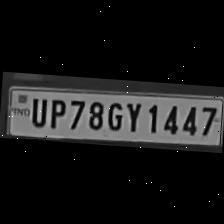1: (141, 100, 159, 134)
4: (158, 100, 181, 136), (178, 101, 197, 135)
7: (64, 96, 86, 131), (196, 103, 217, 136)
8: (84, 97, 106, 131)
G: (104, 97, 124, 132)
P: (46, 94, 66, 130)
U: (26, 94, 48, 128)
Y: (122, 99, 142, 134)
